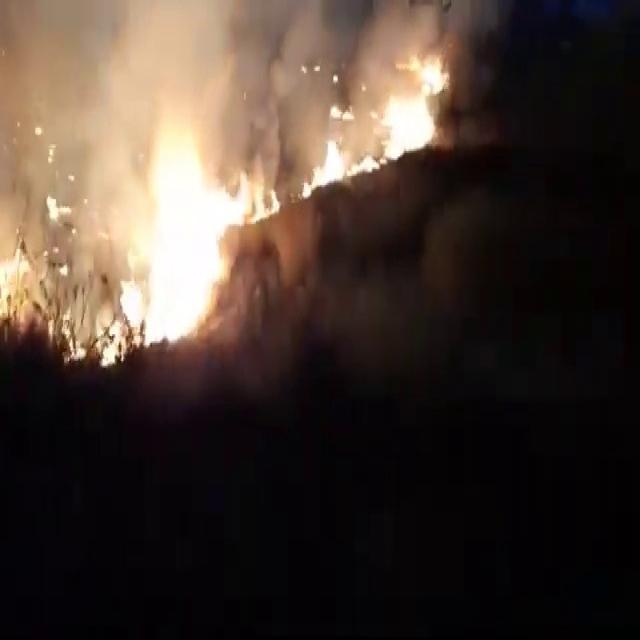Fire: (93, 126, 280, 364), (383, 52, 446, 158), (303, 146, 378, 200), (2, 247, 34, 317)
Smoke: (4, 9, 459, 348)
